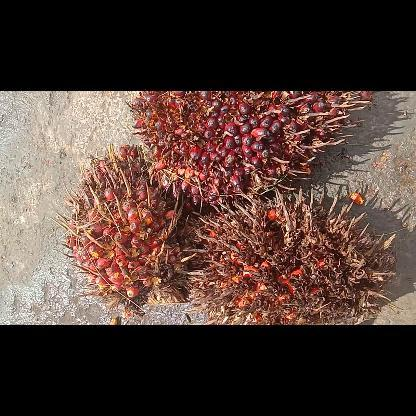TBS masak: (126, 90, 370, 206), (50, 143, 212, 313)
Terlalu masak: (182, 188, 398, 324)
